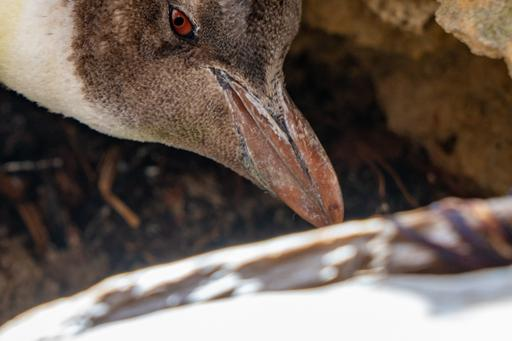Southern Rockhopper Penguin: (0, 0, 351, 341)
